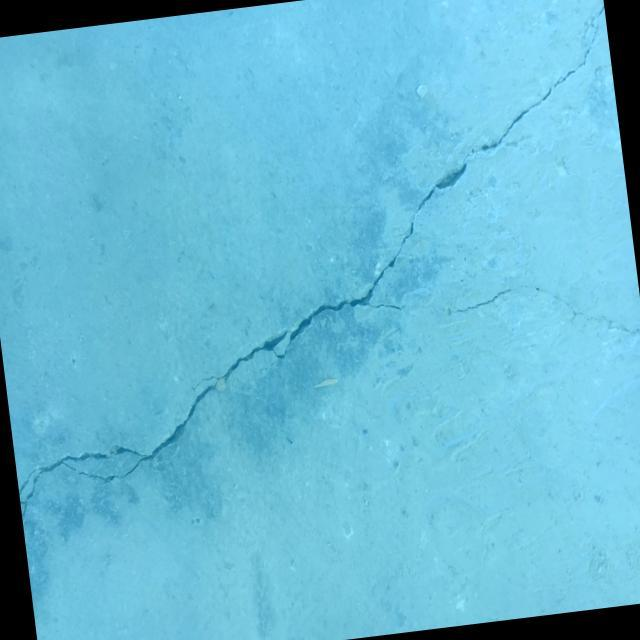crack: (0, 4, 640, 517), (445, 275, 596, 338)
